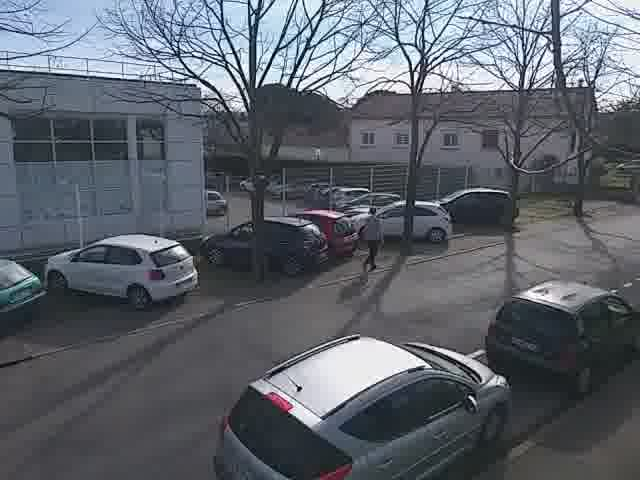persona: (353, 198, 388, 278)
